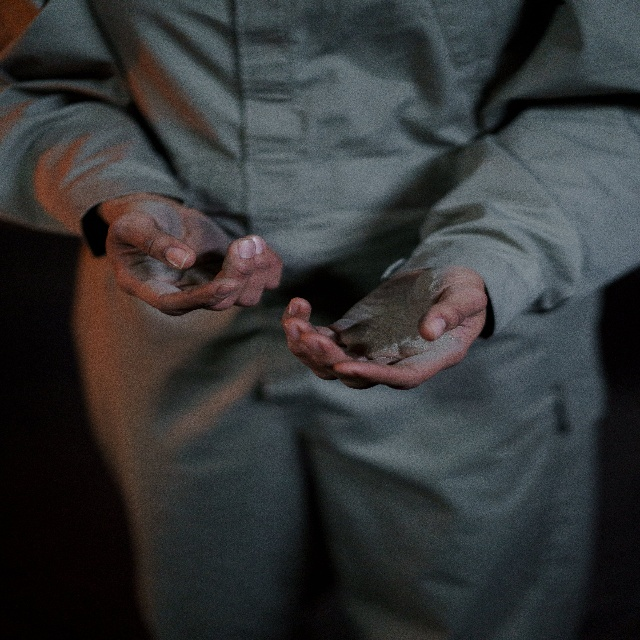Sin_guantes: (279, 267, 487, 391), (105, 196, 283, 316)
